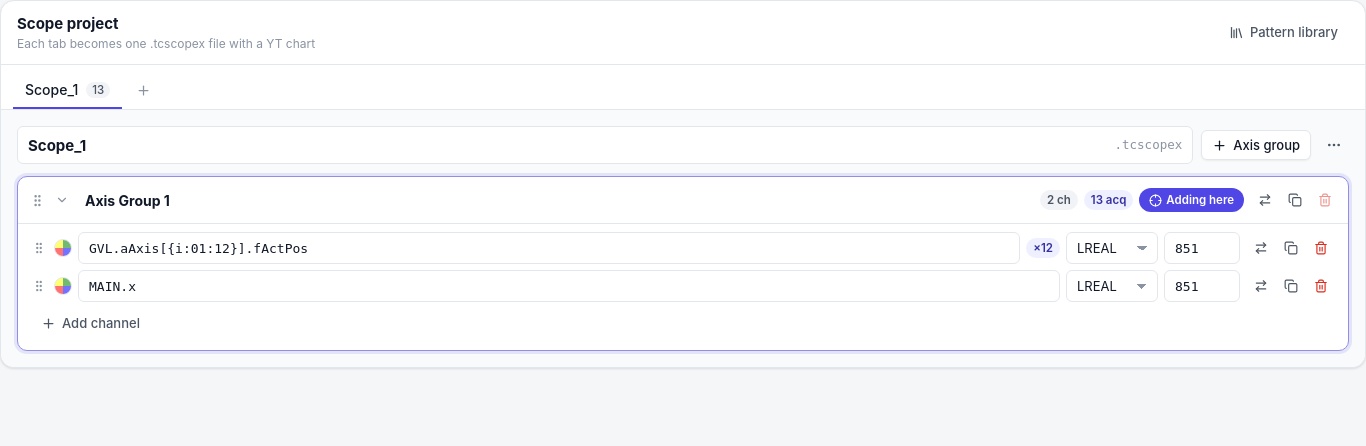
Test case: channel name and colour › names the name and colour in the toggle
Later steps or results of the test are not shown.
Click the button named "Name and colour" in the row of "12" at (63, 248), box [54,239,72,257]
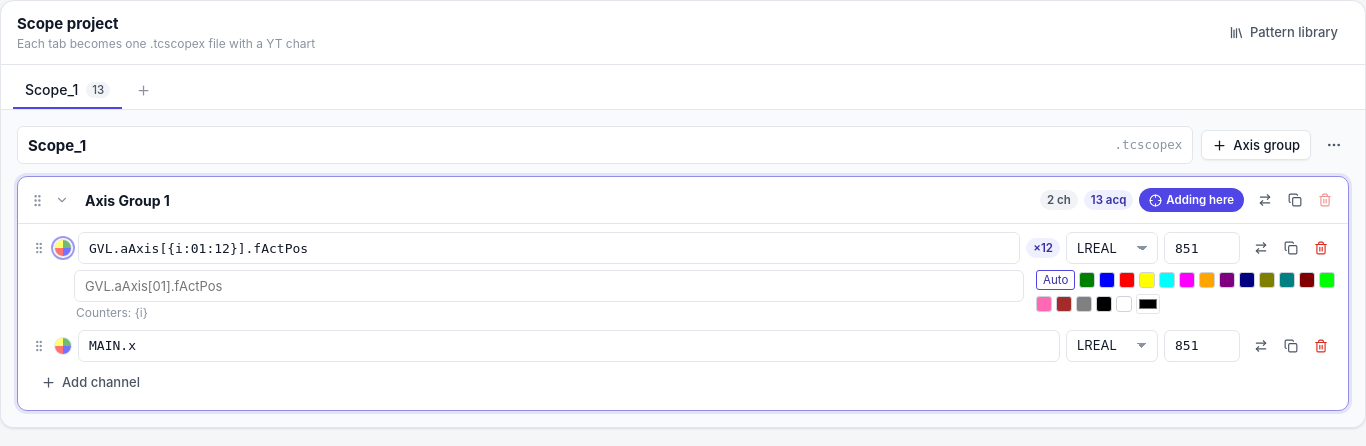
Expected: the button named "Name and colour" in the row of "12" is expanded, [54,239,72,257]
